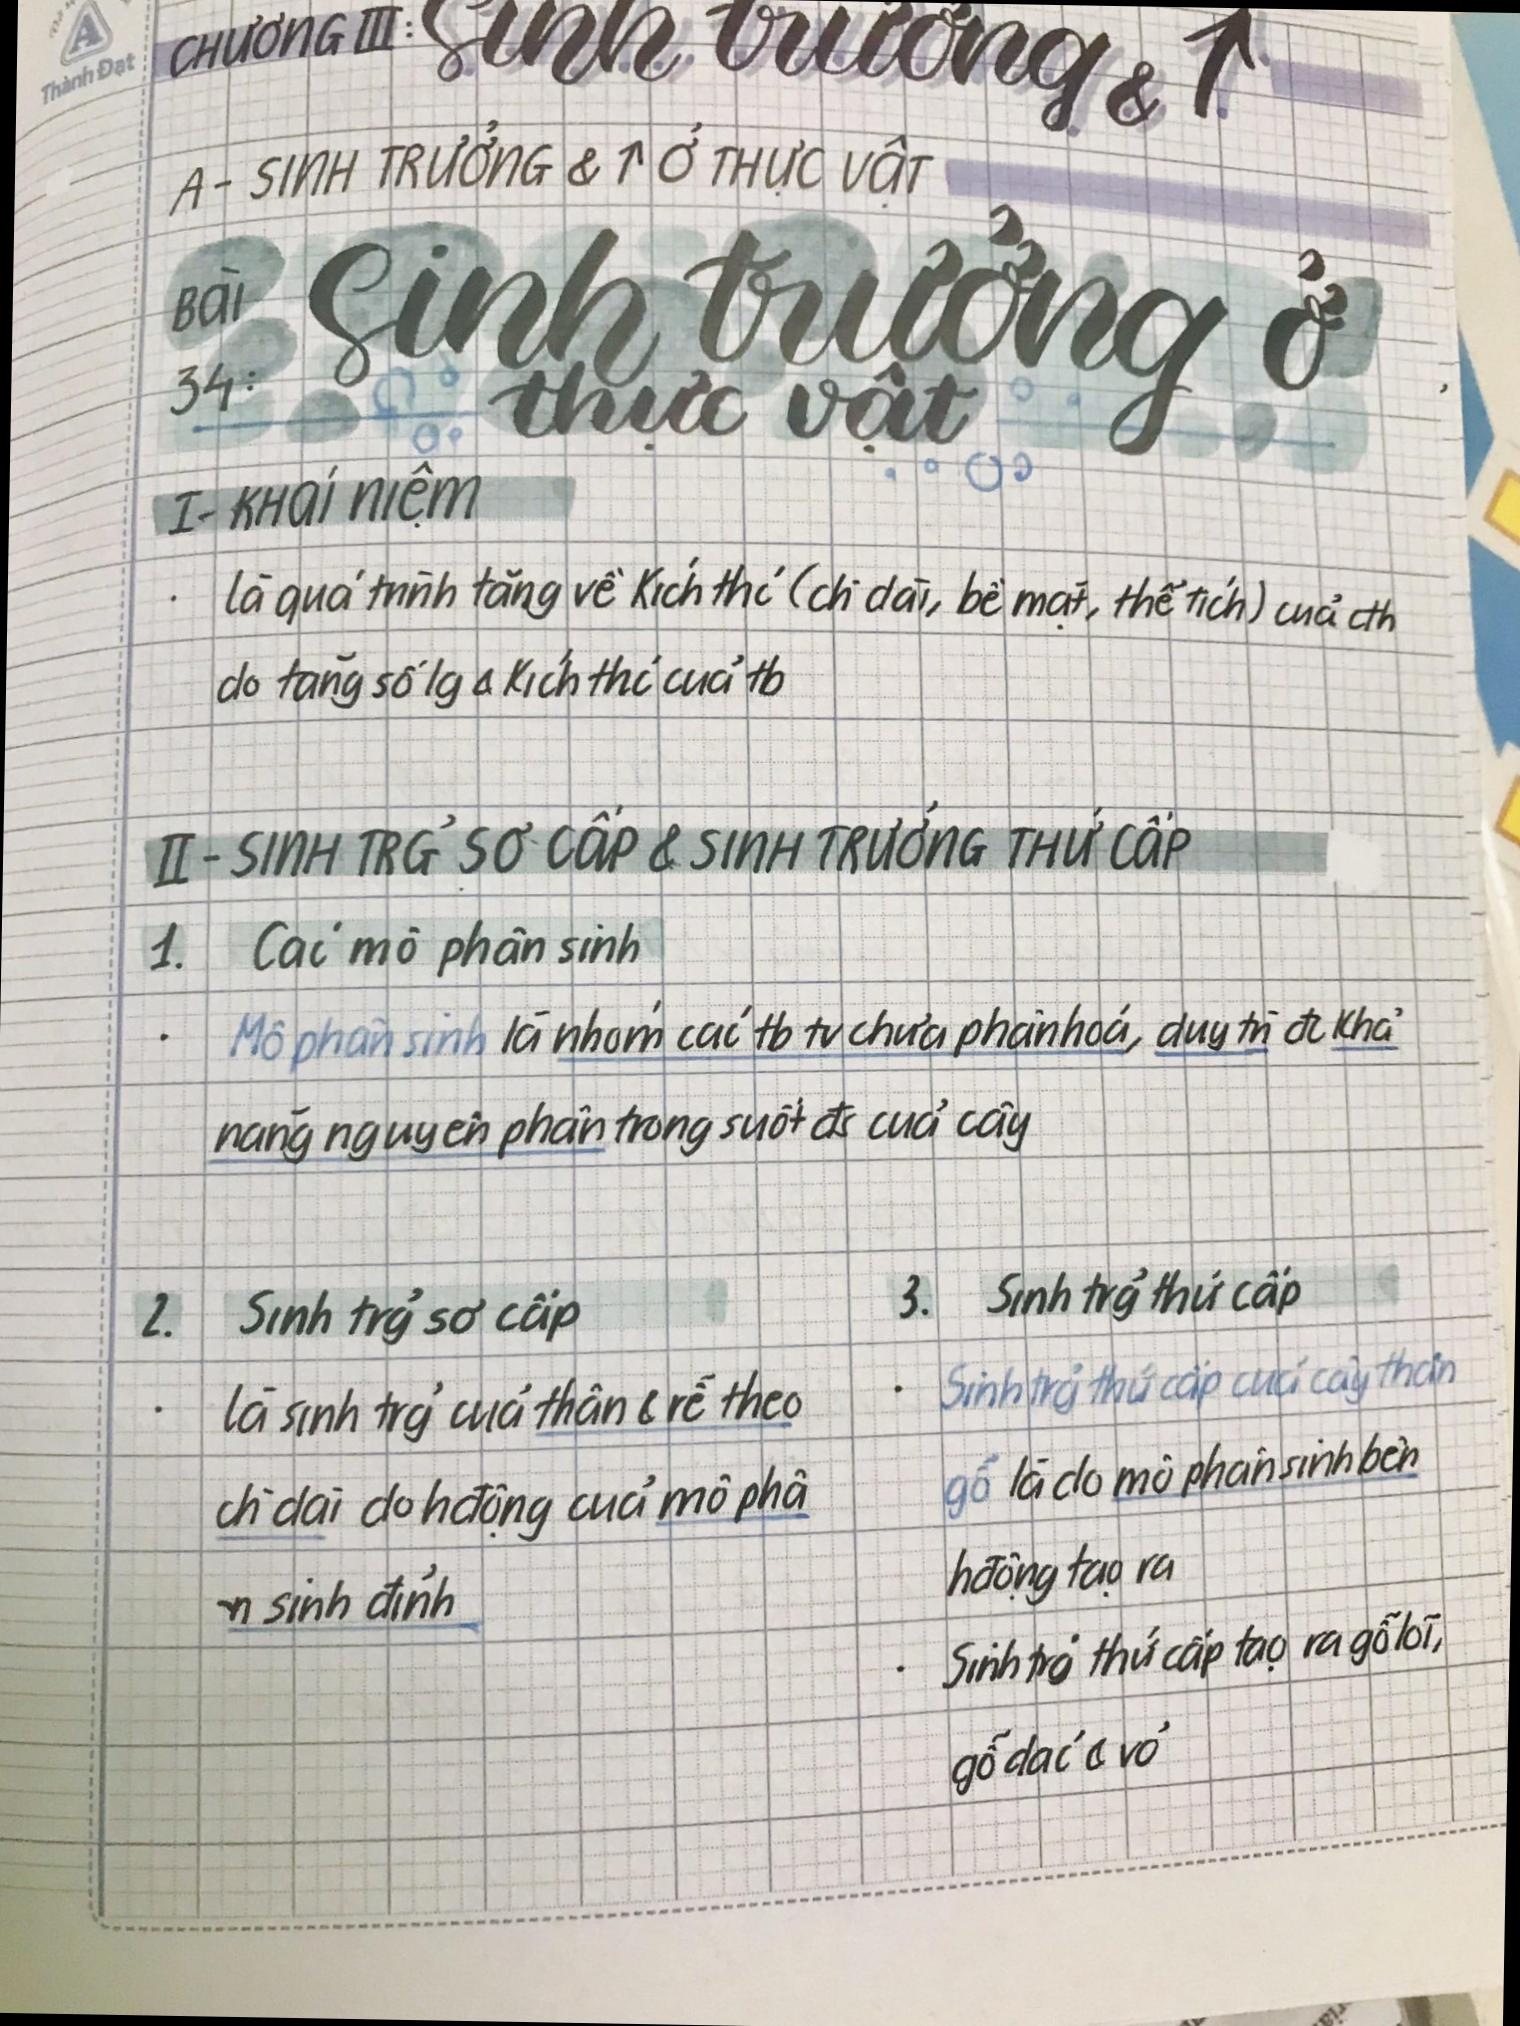text: (302, 188, 1356, 465), (156, 0, 1268, 148), (217, 974, 1405, 1106), (141, 781, 1199, 913), (219, 540, 1408, 653), (163, 104, 944, 239), (206, 1074, 1038, 1180), (208, 1448, 814, 1557), (214, 1349, 809, 1456), (929, 1589, 1451, 1710), (932, 1416, 1427, 1539), (931, 1333, 1464, 1438), (211, 632, 794, 723), (482, 350, 982, 453), (136, 904, 650, 991), (128, 1274, 584, 1362), (891, 1253, 1304, 1339), (161, 445, 487, 549), (211, 1553, 461, 1641), (944, 1713, 1175, 1807), (937, 1531, 1180, 1620), (160, 259, 251, 340), (35, 43, 137, 113), (169, 354, 257, 428)
